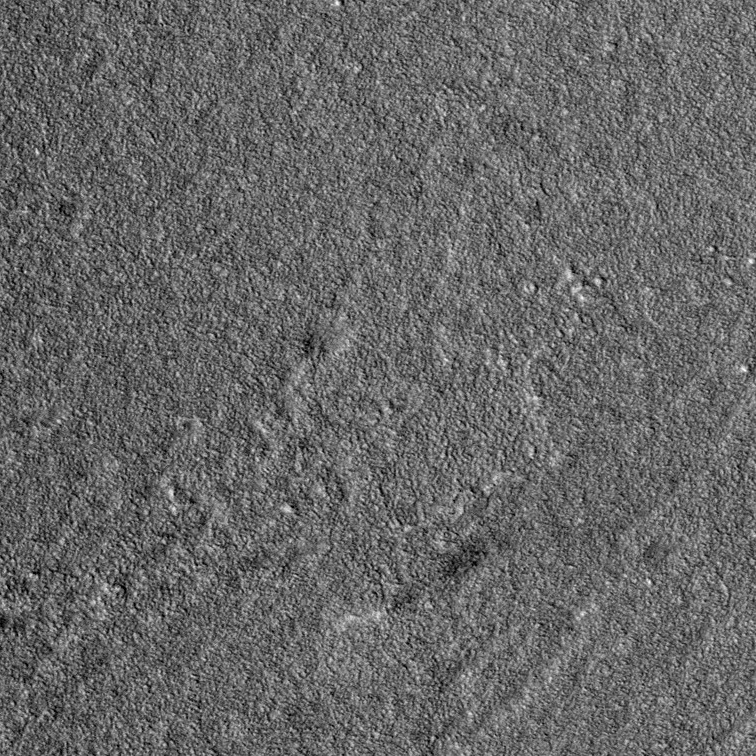dust_devil: (335, 530, 490, 637)
